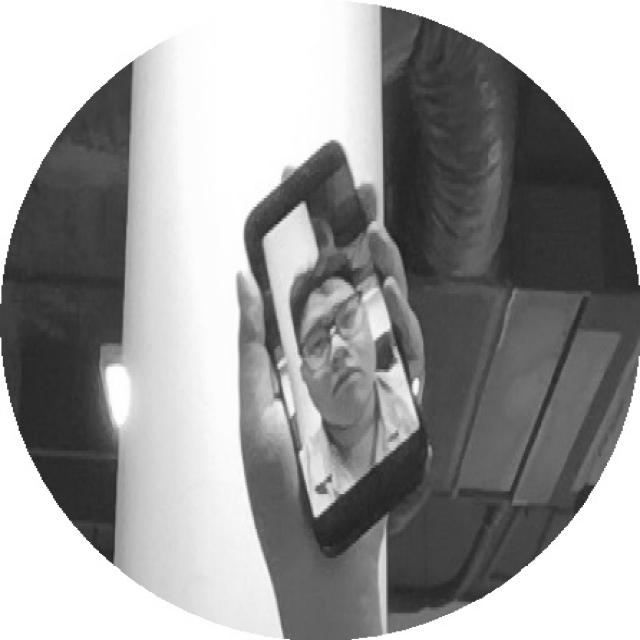fake: (197, 116, 488, 571), (221, 136, 464, 560)
